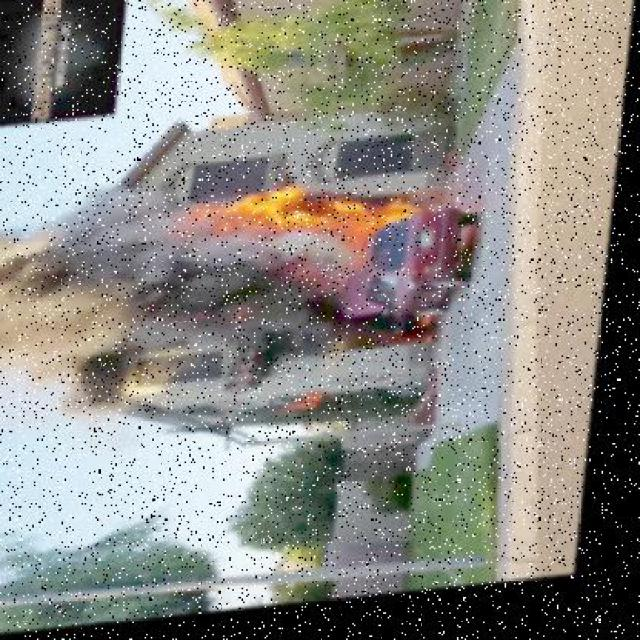fire: (127, 154, 464, 379)
